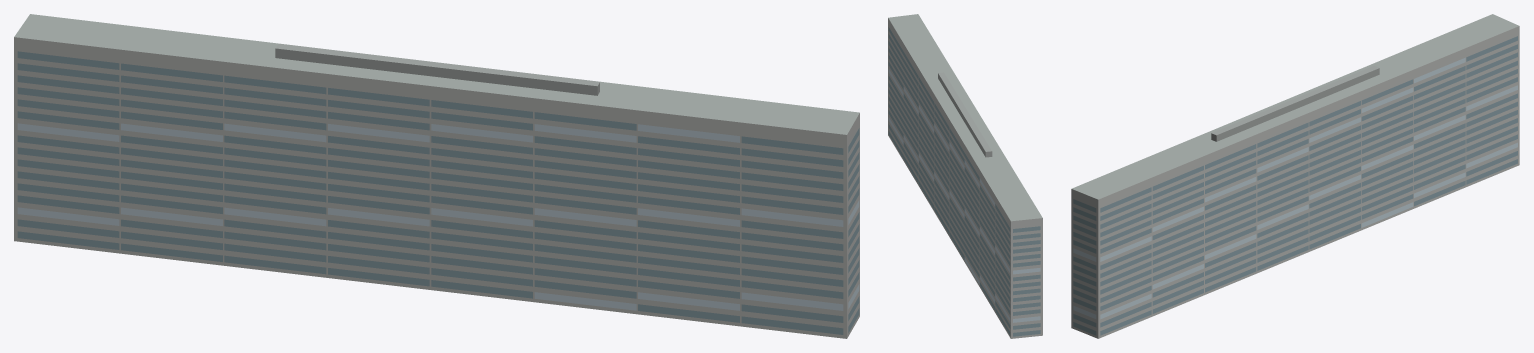
The model's file is fallback-raemian-blesstige-completion-201.glb.
3 views of the same model, side by side, from view 1: azimuth 30°, elevation 25°; view 2: azimuth 150°, elevation 25°; view 3: azimuth 270°, elevation 25° (orthographic). The views are drawn at different scales.
Visible parts, largest first — view 1: fallback-raemian-blesstige-completion-201; view 2: fallback-raemian-blesstige-completion-201; view 3: fallback-raemian-blesstige-completion-201.
Part boxes in pixels (<box>): fallback-raemian-blesstige-completion-201: <box>14,14,859,338</box>; fallback-raemian-blesstige-completion-201: <box>888,14,1042,338</box>; fallback-raemian-blesstige-completion-201: <box>1071,14,1519,338</box>.
Size of the model in its own units: 139 by 51 by 142.
